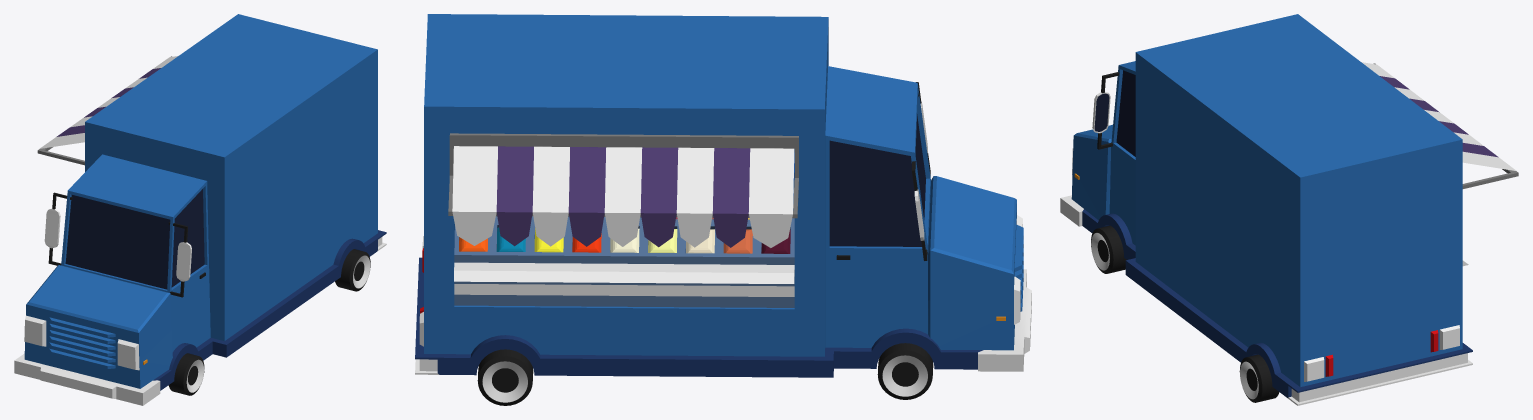
3 views of the same model, side by side, from view 1: azimuth 30°, elevation 25°; view 2: azimuth 150°, elevation 25°; view 3: azimuth 270°, elevation 25° (orthographic). The views are drawn at different scales.
Parts seen in each view (by area): view 1: carrozzeria, paraurti, aerazione, specchietti_retrovisori, fanali_anteriori, tendina, ruote_anteriori, ruote_posteriori; view 2: carrozzeria, tendina, gelatiera, paraurti, tendina_scheletro, ruote_anteriori, ruote_posteriori, specchietti_retrovisori, aerazione; view 3: carrozzeria, paraurti, tendina, ruote_posteriori, ruote_anteriori, fanali_posteriori, specchietti_retrovisori.
Boxes of the visible parts, x1,y1,x2,y2 form: carrozzeria: (24,14,377,388); paraurti: (14,230,386,405); aerazione: (49,317,115,368); specchietti_retrovisori: (44,192,191,297); fanali_anteriori: (24,315,139,370); tendina: (39,56,177,148); ruote_anteriori: (168,353,204,395); ruote_posteriori: (335,249,370,291); carrozzeria: (424,14,1016,356); tendina: (452,146,794,247); gelatiera: (454,190,794,307); paraurti: (415,257,1031,377); tendina_scheletro: (448,133,798,218); ruote_anteriori: (877,343,933,399); ruote_posteriori: (477,349,533,405); specchietti_retrovisori: (911,82,930,260); aerazione: (1014,224,1023,311); carrozzeria: (1071,14,1462,386); paraurti: (1060,195,1472,405); tendina: (1361,62,1516,171); ruote_posteriori: (1239,354,1279,402); ruote_anteriori: (1091,225,1126,273); fanali_posteriori: (1304,325,1459,381); specchietti_retrovisori: (1092,72,1119,149).
Bounding box in the file's own units: 392 × 196 × 332.
Materials: 2 (2 with a texture image).
